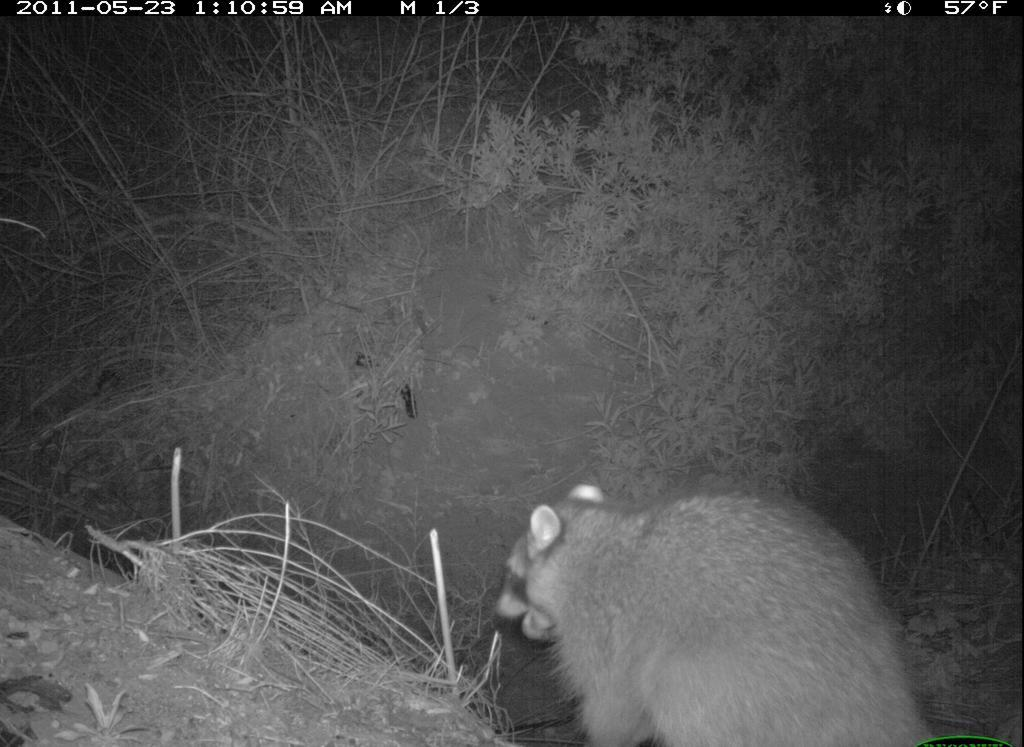raccoon: (483, 475, 963, 747)
